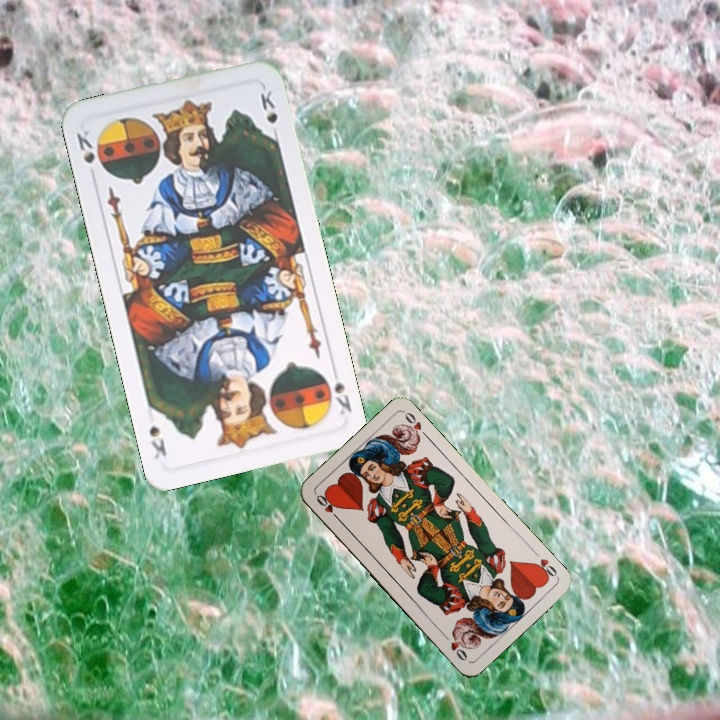HO: (529, 547, 560, 582), (312, 490, 343, 524)
SK: (318, 363, 355, 417), (72, 126, 99, 183)
